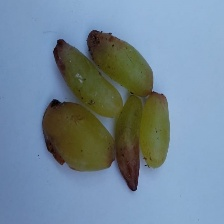grapes: (46, 30, 201, 172)
